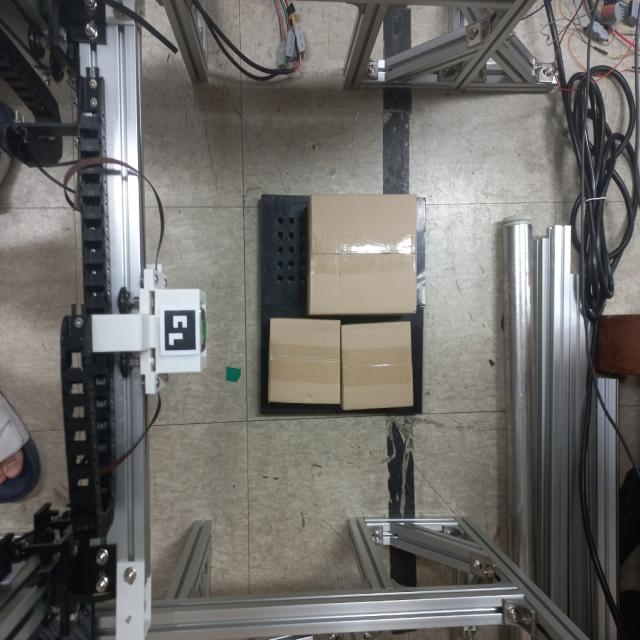box: (307, 191, 421, 318), (339, 318, 417, 414), (265, 315, 343, 409)
